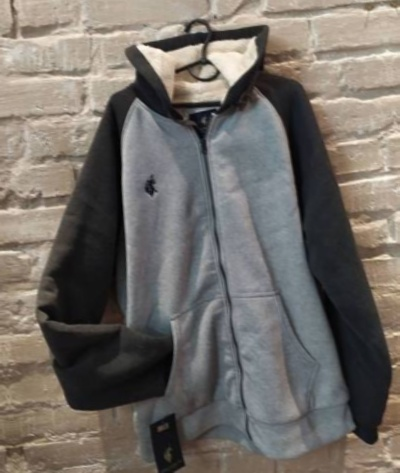Hoodie: (6, 1, 387, 473)
